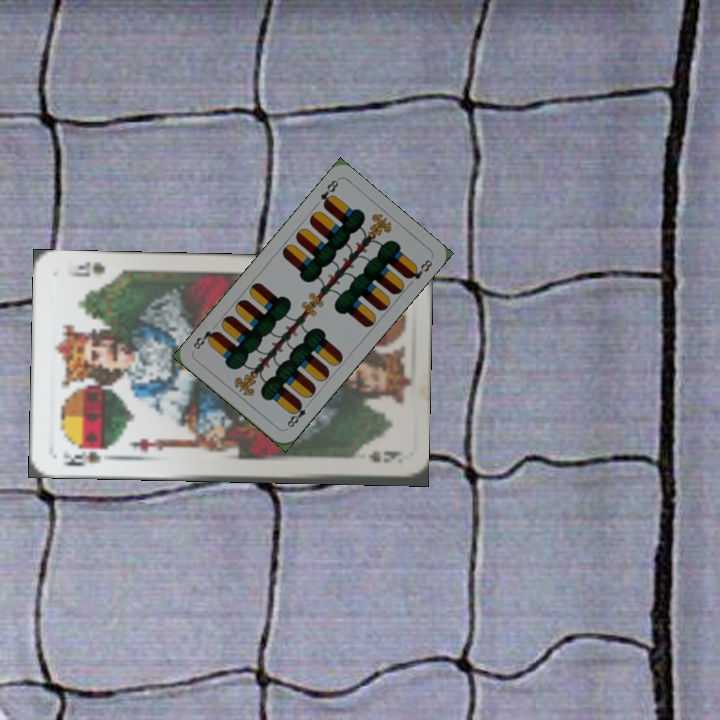E8: (282, 398, 313, 432), (316, 176, 341, 211)
SK: (58, 443, 111, 469)
